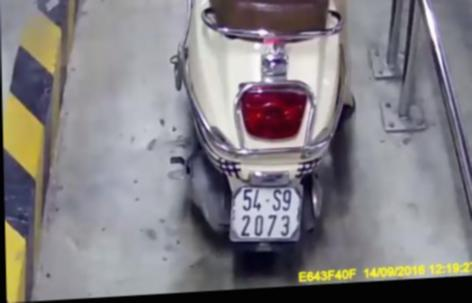License_Plate: (221, 178, 316, 248)
